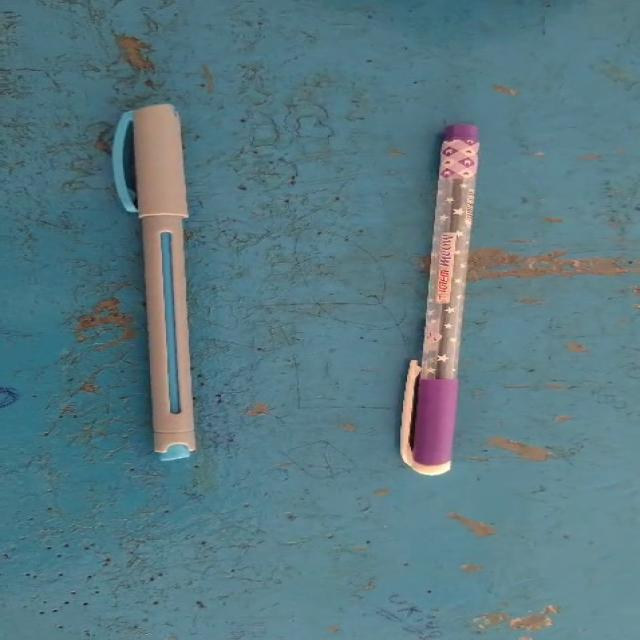pen: (60, 65, 262, 483), (362, 85, 525, 495)
